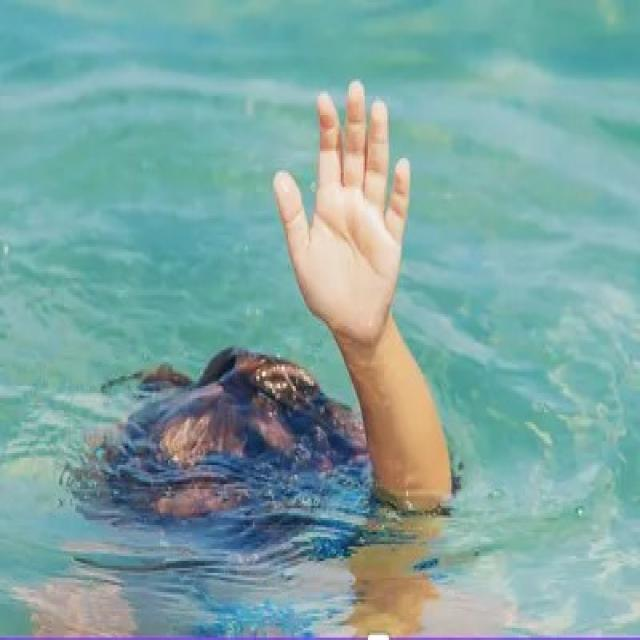Drowning: (82, 67, 455, 522)
